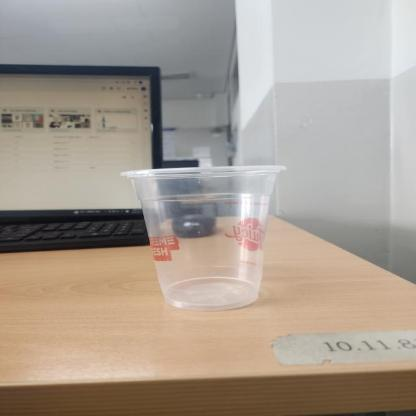Plastic Cup: (120, 166, 288, 310)
